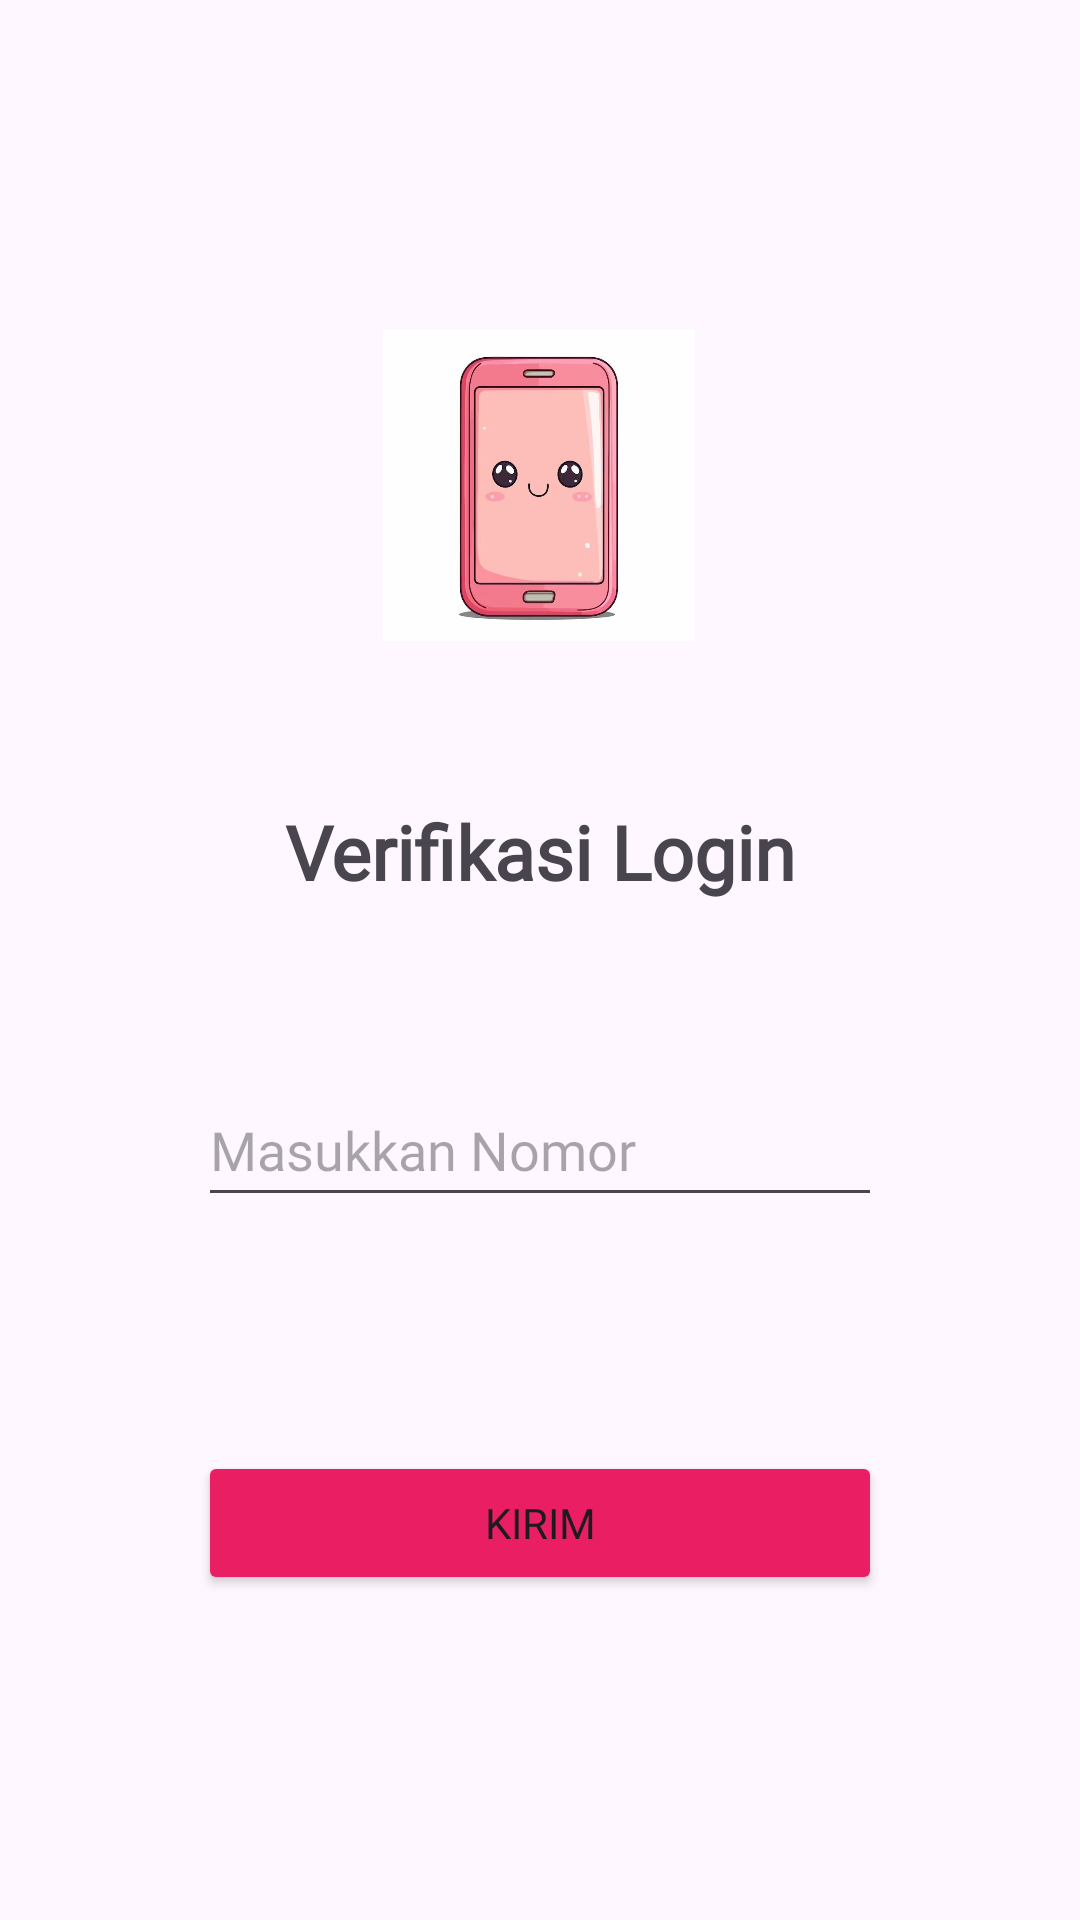

Locate icon controls on the screen. Image size 1080px×1920px, boxes as [left=x1, top=y1, right=x2, bottom=y2].
telepongenggam: [left=459, top=356, right=618, bottom=620]
